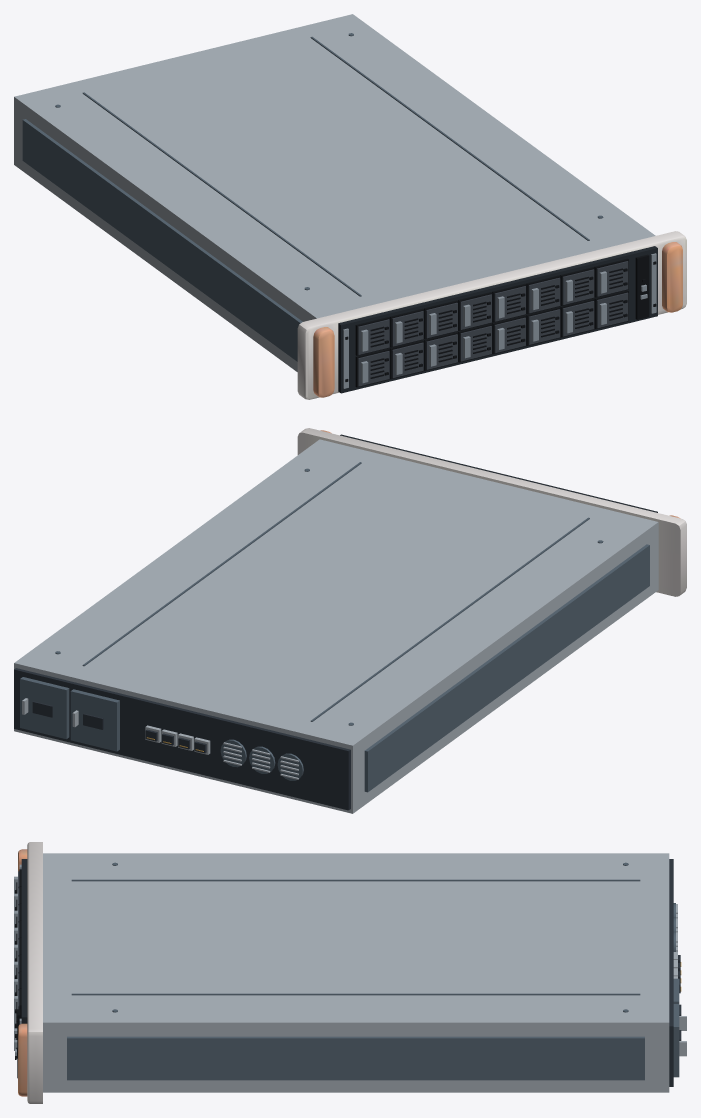
Rendered from serveur-2u.glb.
3 renders of one model, top to bottom at view 1: azimuth 30°, elevation 25°; view 2: azimuth 150°, elevation 25°; view 3: azimuth 270°, elevation 25°, orthographic. The views are drawn at different scales.
Visible parts, largest first — view 1: server-2u 5, Façade 5, Poignée 5-1, Poignée 5-2; view 2: server-2u 5, Façade 5; view 3: server-2u 5, Façade 5, Poignée 5-2.
Part boxes in pixels (x1,y1,x2,y2): server-2u 5: [14, 14, 657, 393]; Façade 5: [297, 231, 686, 399]; Poignée 5-1: [313, 327, 334, 397]; Poignée 5-2: [662, 242, 682, 312]; server-2u 5: [14, 434, 658, 813]; Façade 5: [297, 428, 686, 596]; server-2u 5: [14, 853, 686, 1092]; Façade 5: [27, 842, 42, 1103]; Poignée 5-2: [18, 1023, 27, 1096].
Size of the model in its own units: 0.47 by 0.086 by 0.6985.
11 materials, 1 textured.
